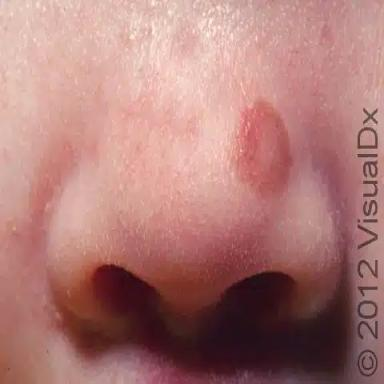nevus: (237, 100, 291, 198)
